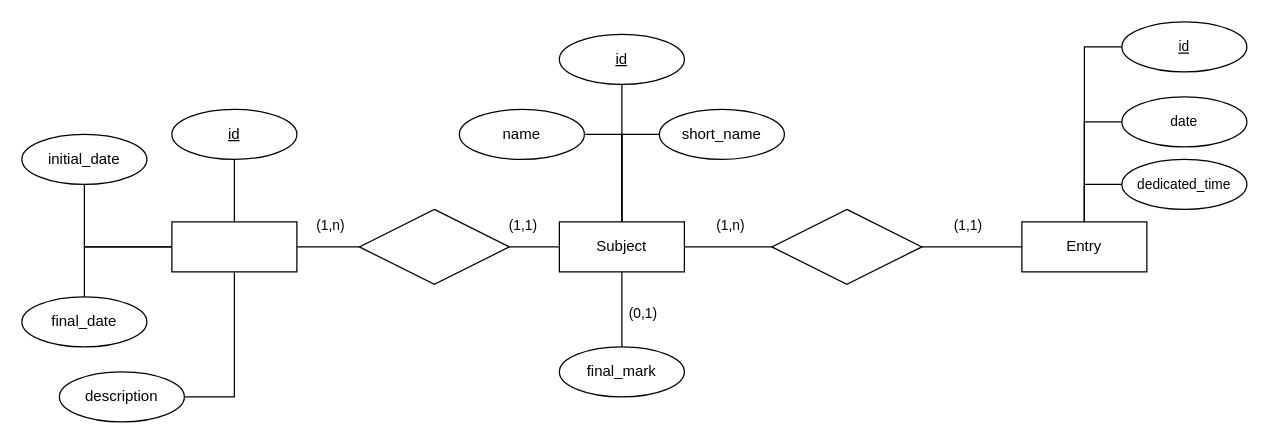
Some shapes in this 1269 by 444 pixel diagram are drawn without their labels. Each missing label, with the centre of its shape:
"ENROLLED" goes at point (433, 246).
"Period" goes at point (234, 246).
"STUDIED" goes at point (846, 246).
